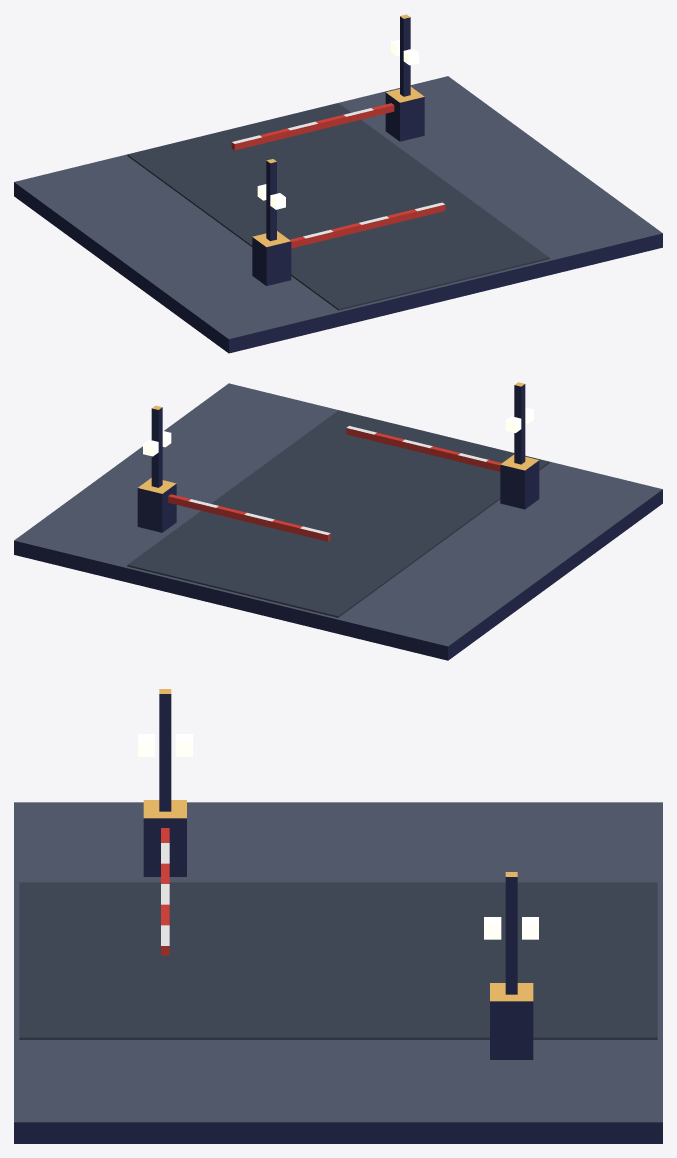
Rendered from rail-level-crossing.glb.
3 views of the same model, one above another, from view 1: azimuth 30°, elevation 25°; view 2: azimuth 150°, elevation 25°; view 3: azimuth 270°, elevation 25° (orthographic). The views are drawn at different scales.
Visible parts, largest first — view 1: rail-level-crossing_root; view 2: rail-level-crossing_root; view 3: rail-level-crossing_root.
Part boxes in pixels (left/top/right/bottom): rail-level-crossing_root: left=14, top=14, right=662, bottom=353; rail-level-crossing_root: left=14, top=382, right=662, bottom=660; rail-level-crossing_root: left=14, top=689, right=662, bottom=1143.
Size of the model in its own units: 14 by 4.1 by 12.
Materials: 2 (2 with a texture image).
